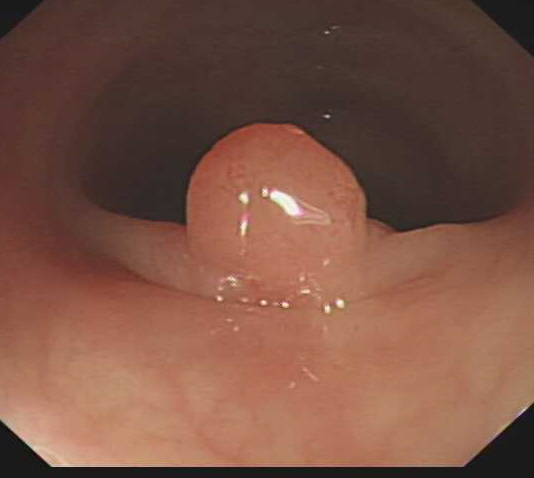adenoma: (182, 118, 371, 287)
